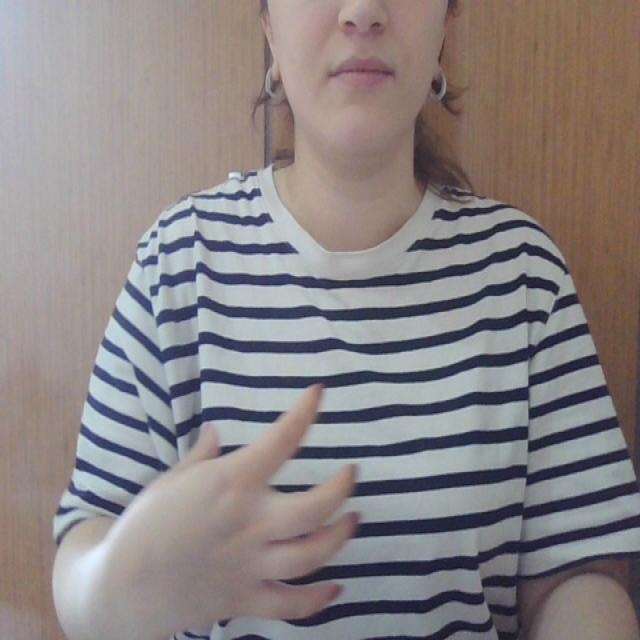Anne: (132, 386, 518, 630)
